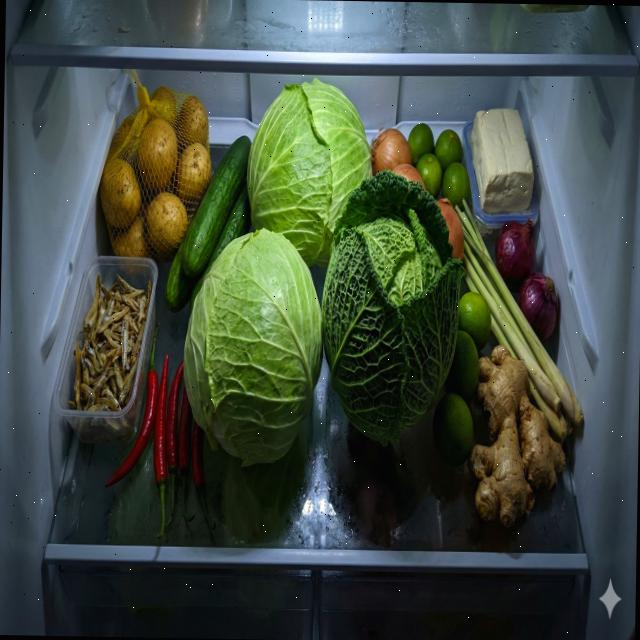anchovies: (66, 272, 152, 441)
cabbage: (318, 168, 468, 449), (181, 226, 325, 472), (245, 76, 374, 271)
chili: (104, 320, 219, 540)
cucumber: (163, 133, 251, 322)
ginger: (468, 342, 568, 530)
lemongrass: (449, 198, 588, 446)
lime: (431, 290, 492, 467), (406, 122, 472, 212)
onion: (492, 217, 559, 342), (370, 125, 412, 178)
potato: (99, 85, 212, 258)
tofu: (468, 106, 535, 212)
